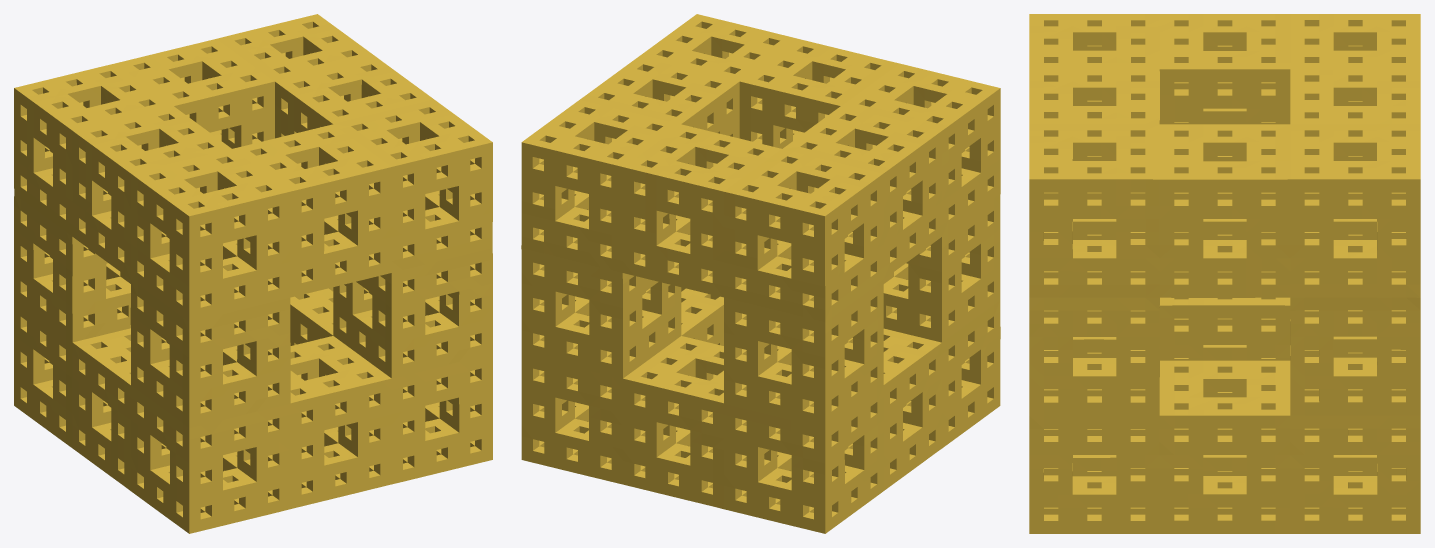
Rendered from fractal10.fbx.
3 views of the same model, side by side, from view 1: azimuth 30°, elevation 25°; view 2: azimuth 150°, elevation 25°; view 3: azimuth 270°, elevation 25° (orthographic). The views are drawn at different scales.
Parts seen in each view (by area): view 1: Cube.001; view 2: Cube.001; view 3: Cube.001.
Part boxes in pixels (x1=…): Cube.001: x1=14, y1=14, x2=492, y2=533; Cube.001: x1=521, y1=14, x2=1000, y2=533; Cube.001: x1=1029, y1=14, x2=1420, y2=533.
Size of the model in its own units: 10 by 10 by 10.
